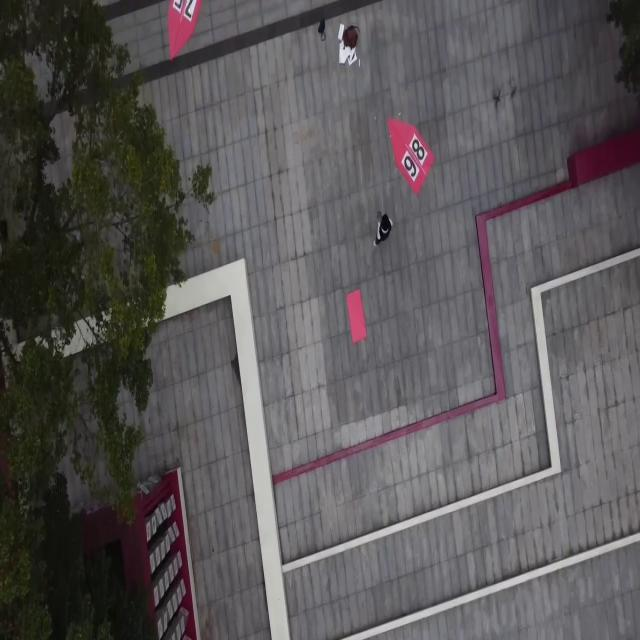-sign-: (386, 116, 434, 196)
